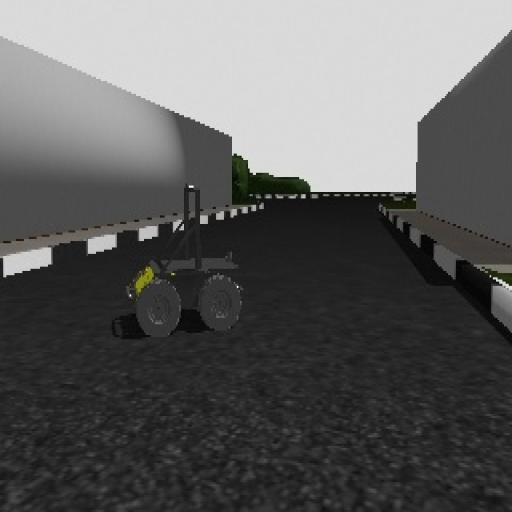huskya200: (112, 178, 250, 347)
